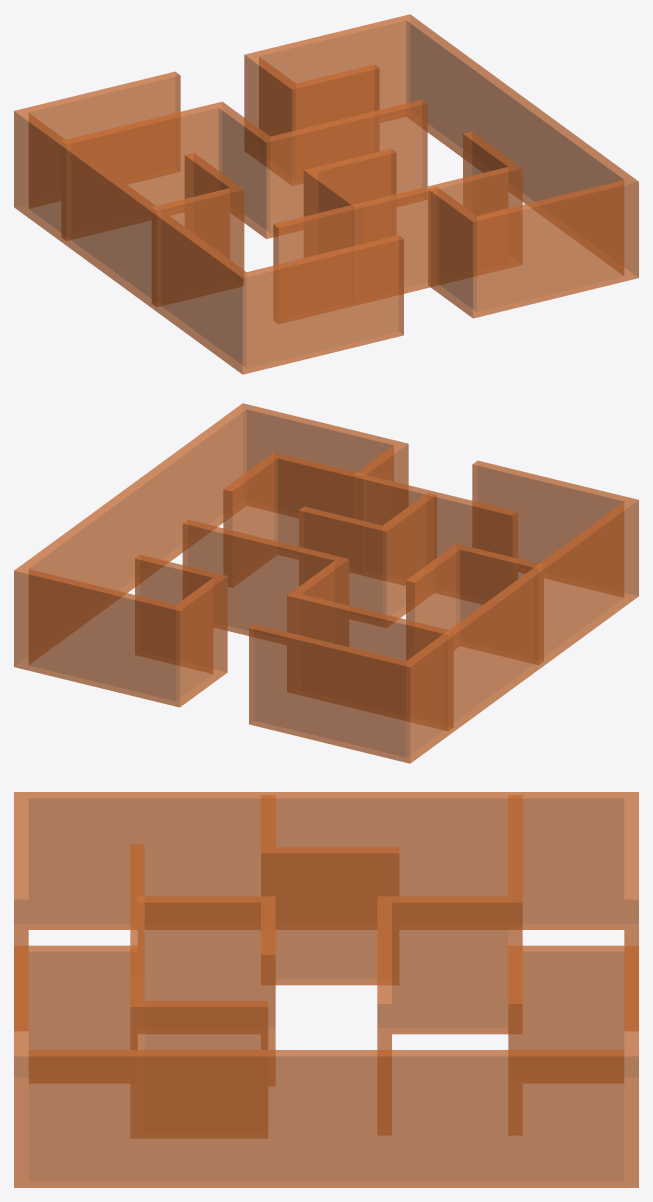
The model's file is Maze.glb.
3 views of the same model, one above another, from view 1: azimuth 30°, elevation 25°; view 2: azimuth 150°, elevation 25°; view 3: azimuth 270°, elevation 25° (orthographic). The views are drawn at different scales.
Visible parts, largest first — view 1: Maze; view 2: Maze; view 3: Maze.
Part boxes in pixels (box(x1,y1,x2,y2)): Maze: box(14, 14, 638, 374); Maze: box(14, 403, 638, 763); Maze: box(14, 792, 638, 1187).
Bounding box in the file's own units: 4.3 × 1 × 4.3.
